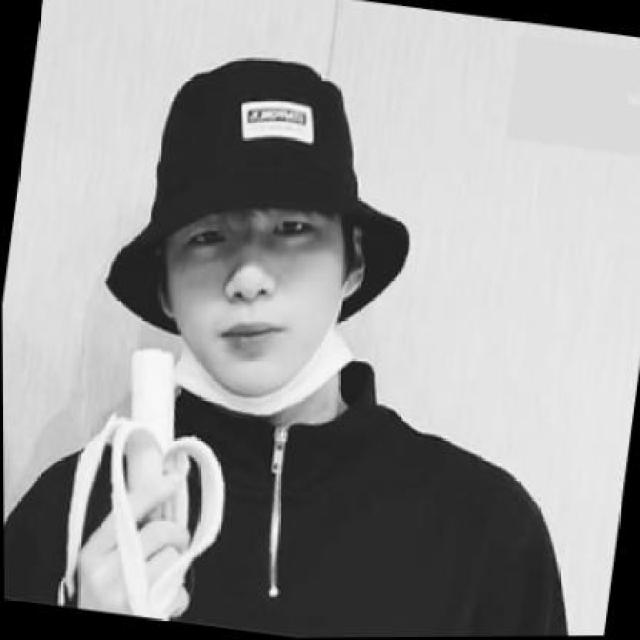hat: (104, 57, 407, 336)
